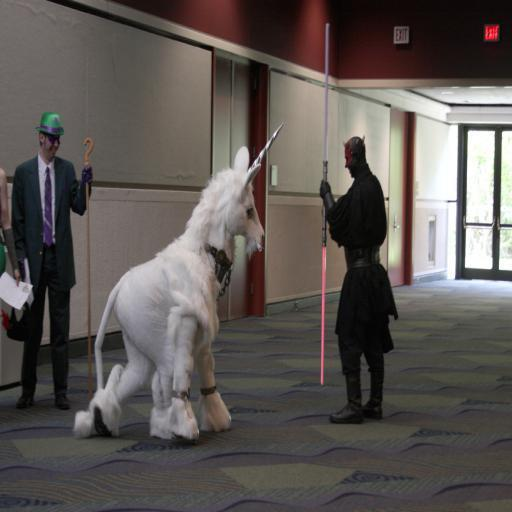horse: (71, 144, 267, 444)
